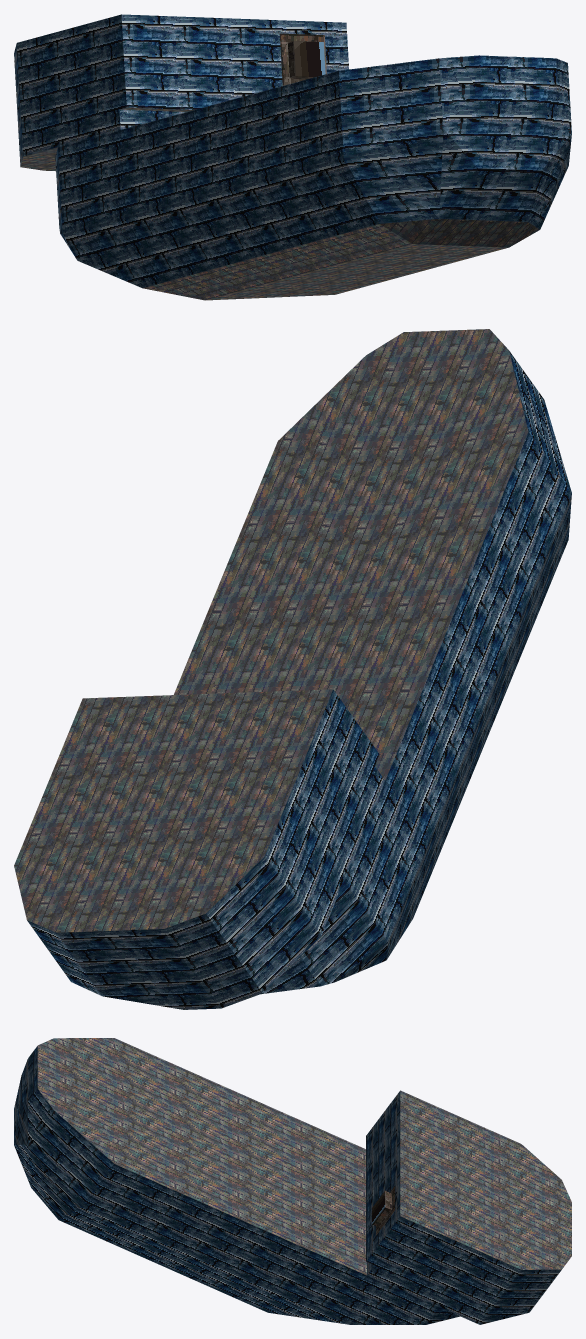
File: kaizoku_ship_all.obj
3 views of the same model, one above another, from view 1: azimuth 30°, elevation 25°; view 2: azimuth 150°, elevation 25°; view 3: azimuth 270°, elevation 25° (orthographic). The views are drawn at different scales.
Visible parts, largest first — view 1: r0; view 2: r0; view 3: r0.
Part boxes in pixels (x1,y1,x2,y2): r0: (14,14,571,300); r0: (14,329,571,1009); r0: (14,1038,571,1324).
Size of the model in its own units: 3.11 by 3.46 by 6.89.
6 materials, 6 textured.
